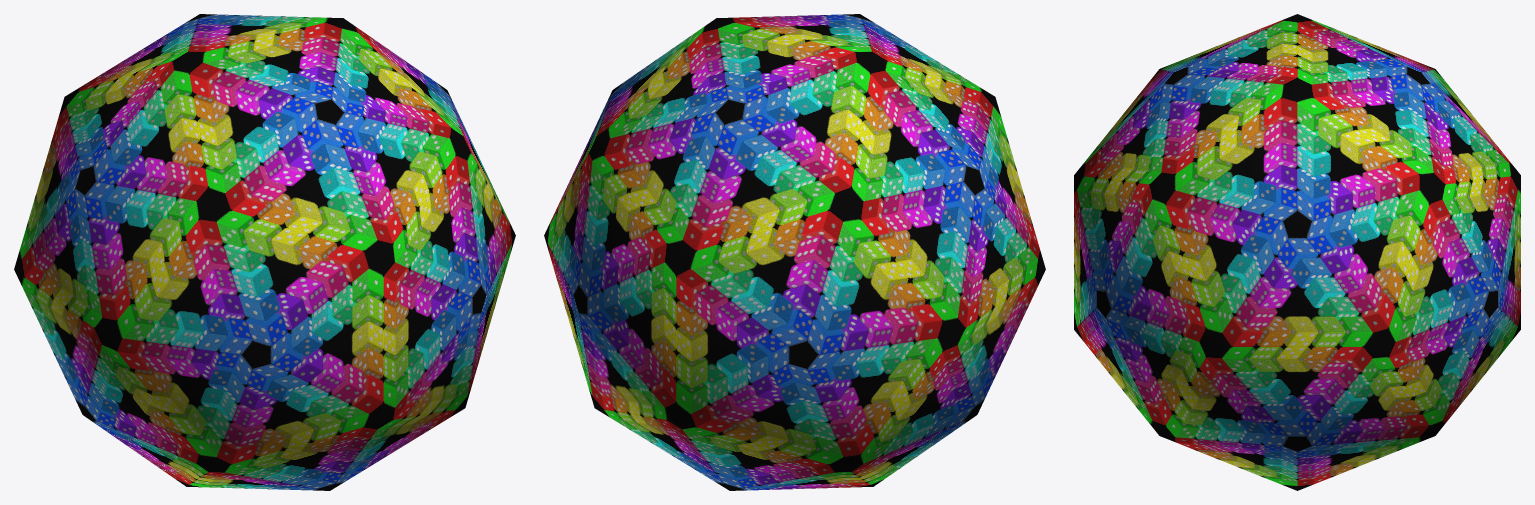
File: 19PentakisDodecahedron.gltf
3 renders of one model, left to right at view 1: azimuth 30°, elevation 25°; view 2: azimuth 150°, elevation 25°; view 3: azimuth 270°, elevation 25°, orthographic. The views are drawn at different scales.
Visible parts, largest first — view 1: 20PentakisDodecahedron; view 2: 20PentakisDodecahedron; view 3: 20PentakisDodecahedron.
Boxes of the visible parts, x1,y1,x2,y2 form: 20PentakisDodecahedron: (14,14,515,490); 20PentakisDodecahedron: (544,14,1045,490); 20PentakisDodecahedron: (1074,14,1520,490).
Bounding box in the file's own units: 4.85 × 4.85 × 4.85.
1 material, 1 textured.
